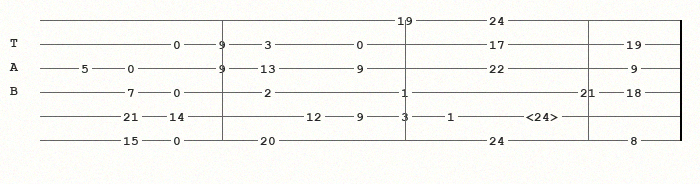0: (127, 62, 139, 74), (173, 86, 185, 98), (173, 134, 185, 146), (173, 38, 185, 50), (356, 38, 368, 50)
1: (401, 86, 413, 98), (447, 110, 459, 122)
12: (306, 110, 326, 122)
13: (260, 62, 280, 74)
14: (169, 110, 189, 122)
15: (123, 134, 143, 146)
17: (489, 38, 509, 50)
18: (626, 86, 646, 98)
19: (397, 14, 417, 26), (626, 38, 646, 50)
2: (264, 86, 276, 98)
20: (260, 134, 280, 146)
21: (123, 110, 143, 122), (580, 86, 600, 98)
22: (489, 62, 509, 74)
24: (489, 14, 509, 26), (489, 134, 509, 146)
3: (264, 38, 276, 50), (401, 110, 413, 122)
5: (81, 62, 93, 74)
7: (127, 86, 139, 98)
8: (630, 134, 642, 146)
9: (218, 62, 230, 74), (218, 38, 230, 50), (356, 62, 368, 74), (356, 110, 368, 122), (630, 62, 642, 74)
harmonic: (526, 110, 563, 122)
